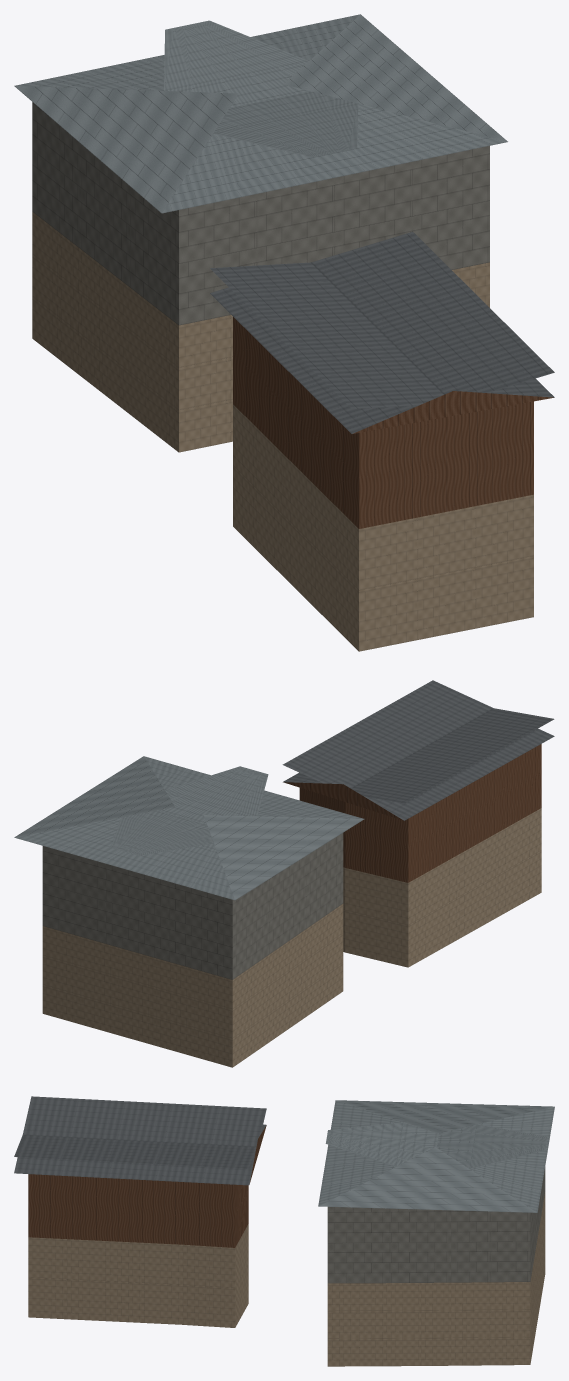
Rendered from bld_c8_25_415.gltf.
The picture shows the model from 3 angles, top to bottom: view 1: azimuth 30°, elevation 25°; view 2: azimuth 150°, elevation 25°; view 3: azimuth 270°, elevation 25°; orthographic projection. The views are drawn at different scales.
Parts seen in each view (by area): view 1: bld_c8_25_415; view 2: bld_c8_25_415; view 3: bld_c8_25_415.
Part boxes in pixels (x1,y1,x2,y2): bld_c8_25_415: (14, 14, 554, 651); bld_c8_25_415: (14, 680, 554, 1067); bld_c8_25_415: (14, 1096, 554, 1366).
Size of the model in its own units: 16.57 by 11.6 by 29.97.
6 materials, 6 textured.
